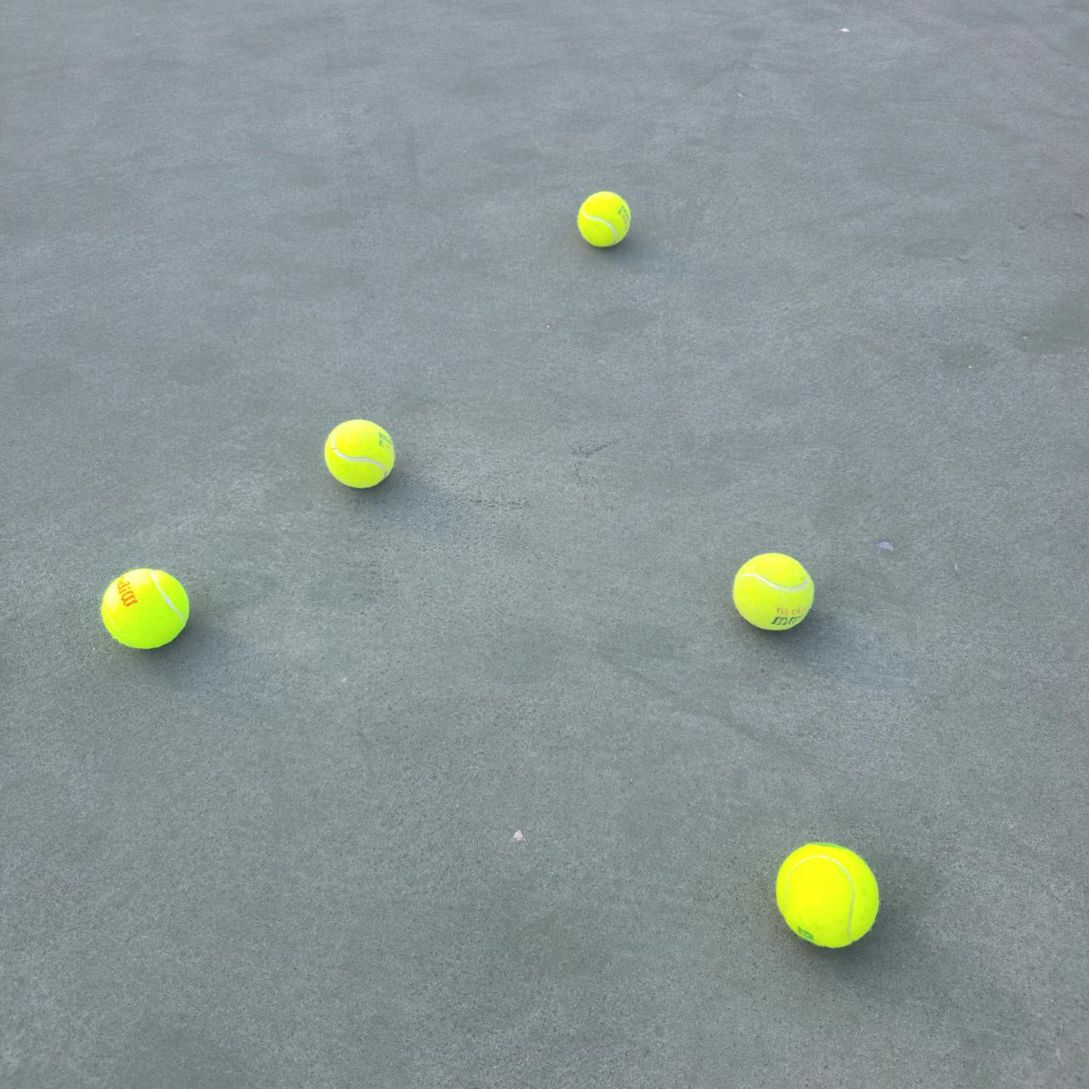tennis-ball: (774, 840, 882, 949), (100, 565, 192, 650), (732, 549, 818, 632), (323, 416, 397, 489), (576, 188, 633, 248)
